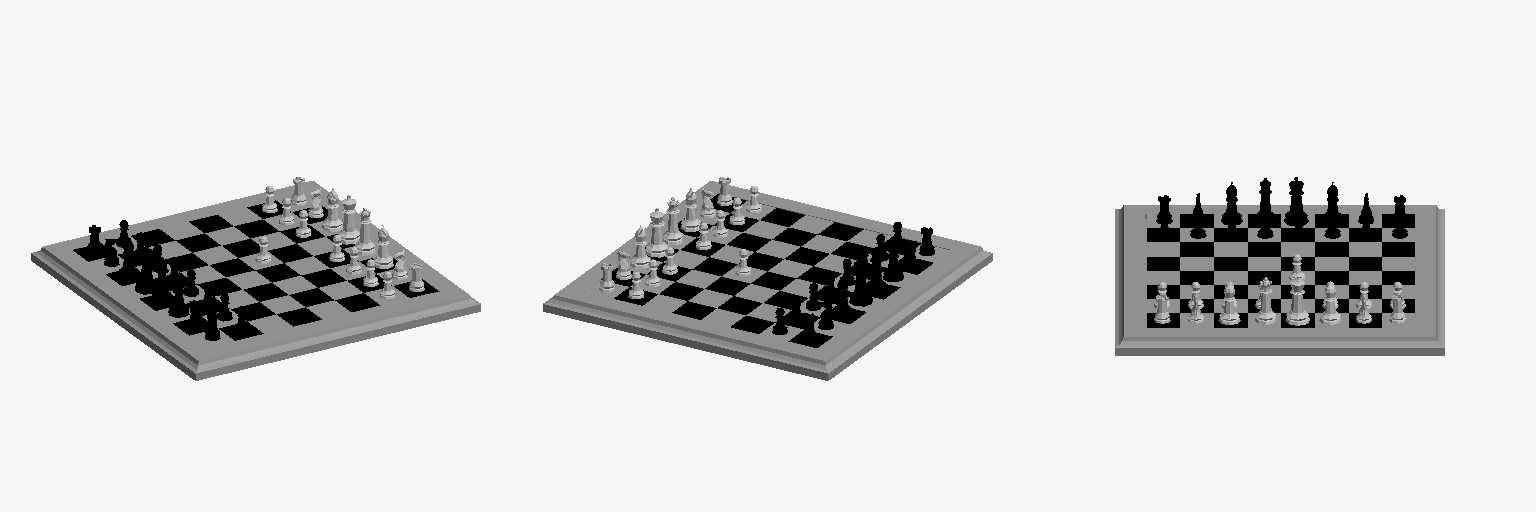
The model's file is LowPolyChessScene.obj.
3 renders of one model, left to right at view 1: azimuth 30°, elevation 25°; view 2: azimuth 150°, elevation 25°; view 3: azimuth 270°, elevation 25°, orthographic.
Visible parts, largest first — view 1: ChessBoard_Cube.001, Chess_Board_Surround_Plane, Low-Poly_King.001_Sphere.023, Low-Poly_King_Sphere.003, Low-Poly_Queen.001_Sphere.022, Low-Poly_Queen_Sphere.002; view 2: ChessBoard_Cube.001, Chess_Board_Surround_Plane, Low-Poly_King.001_Sphere.023, Low-Poly_King_Sphere.003, Low-Poly_Queen_Sphere.002, Low-Poly_Queen.001_Sphere.022; view 3: ChessBoard_Cube.001, Chess_Board_Surround_Plane, Low-Poly_King_Sphere.003, Low-Poly_King.001_Sphere.023, Low-Poly_Queen_Sphere.002.
Boxes of the visible parts, x1=… form: ChessBoard_Cube.001: x1=73, y1=193, x2=437, y2=347; Chess_Board_Surround_Plane: x1=31, y1=181, x2=480, y2=380; Low-Poly_King.001_Sphere.023: x1=135, y1=245, x2=156, y2=294; Low-Poly_King_Sphere.003: x1=338, y1=195, x2=359, y2=244; Low-Poly_Queen.001_Sphere.022: x1=151, y1=257, x2=172, y2=304; Low-Poly_Queen_Sphere.002: x1=355, y1=208, x2=375, y2=255; ChessBoard_Cube.001: x1=585, y1=194, x2=950, y2=347; Chess_Board_Surround_Plane: x1=543, y1=181, x2=992, y2=380; Low-Poly_King.001_Sphere.023: x1=849, y1=257, x2=872, y2=306; Low-Poly_King_Sphere.003: x1=646, y1=208, x2=668, y2=257; Low-Poly_Queen_Sphere.002: x1=663, y1=197, x2=683, y2=244; Low-Poly_Queen.001_Sphere.022: x1=867, y1=247, x2=886, y2=294; ChessBoard_Cube.001: x1=1147, y1=214, x2=1414, y2=327; Chess_Board_Surround_Plane: x1=1115, y1=205, x2=1444, y2=355; Low-Poly_King_Sphere.003: x1=1285, y1=276, x2=1309, y2=325; Low-Poly_King.001_Sphere.023: x1=1284, y1=177, x2=1308, y2=225; Low-Poly_Queen_Sphere.002: x1=1255, y1=277, x2=1276, y2=324.
Bounding box in the file's own units: 58.82 × 11.84 × 58.82.